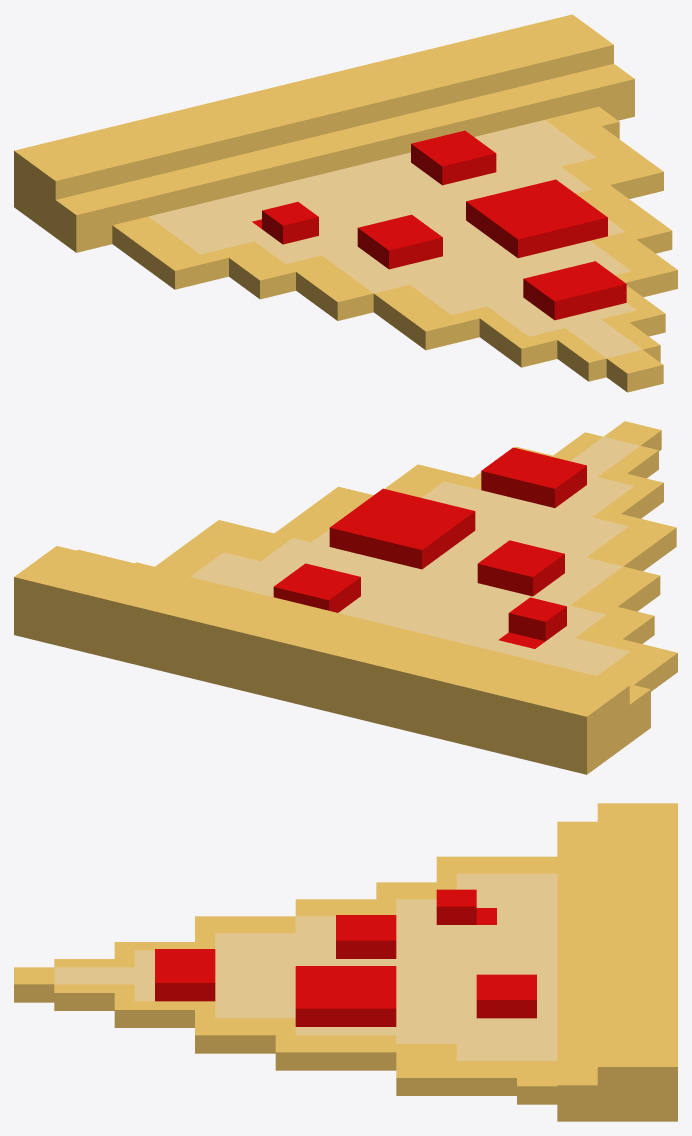
File: Pizza.obj
3 views of the same model, one above another, from view 1: azimuth 30°, elevation 25°; view 2: azimuth 150°, elevation 25°; view 3: azimuth 270°, elevation 25° (orthographic). The views are drawn at different scales.
Parts seen in each view (by area): view 1: Pizza; view 2: Pizza; view 3: Pizza.
Part boxes in pixels (x1,y1,x2,y2): Pizza: [14, 14, 677, 392]; Pizza: [14, 421, 677, 774]; Pizza: [14, 803, 677, 1121].
Size of the model in its own units: 31 by 3 by 33.
